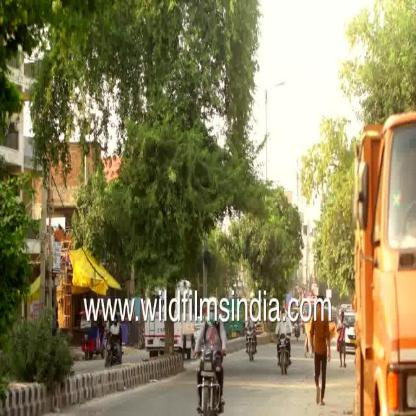priority: (138, 276, 202, 300)
